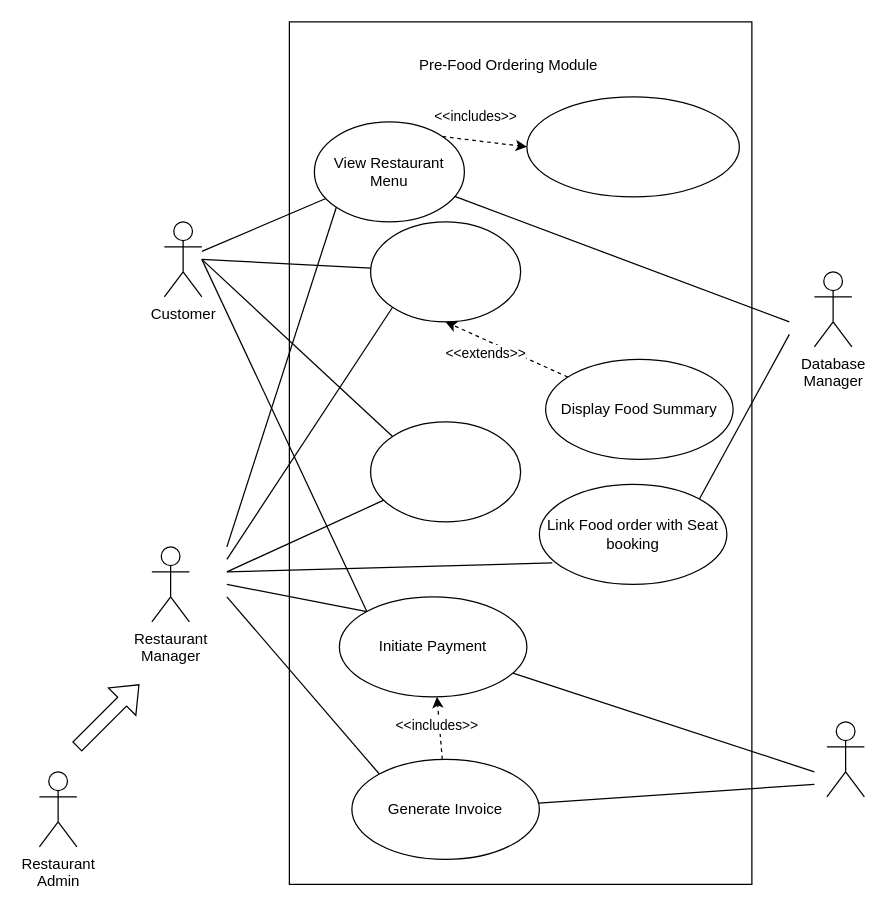
The diagram is 896 pixels wide and 914 high, and some of its shapes have lost their labels. The centre of each missing label's shape, as x and y in pixels:
"Integrate Loyality perks" goes at pixel 445 471.
"Payment Manager" goes at pixel 845 759.
"Seat Book and Restaurant Selection" goes at pixel 632 146.
"Select Food Items" goes at pixel 445 271.
